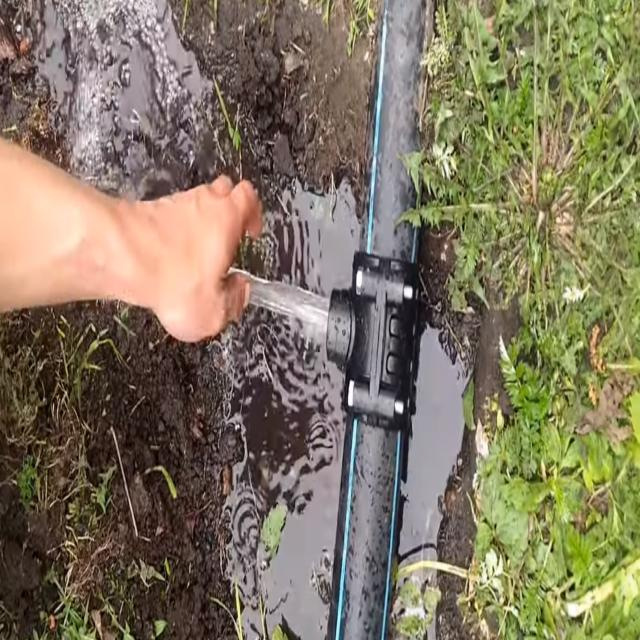leak: (229, 266, 330, 343)
